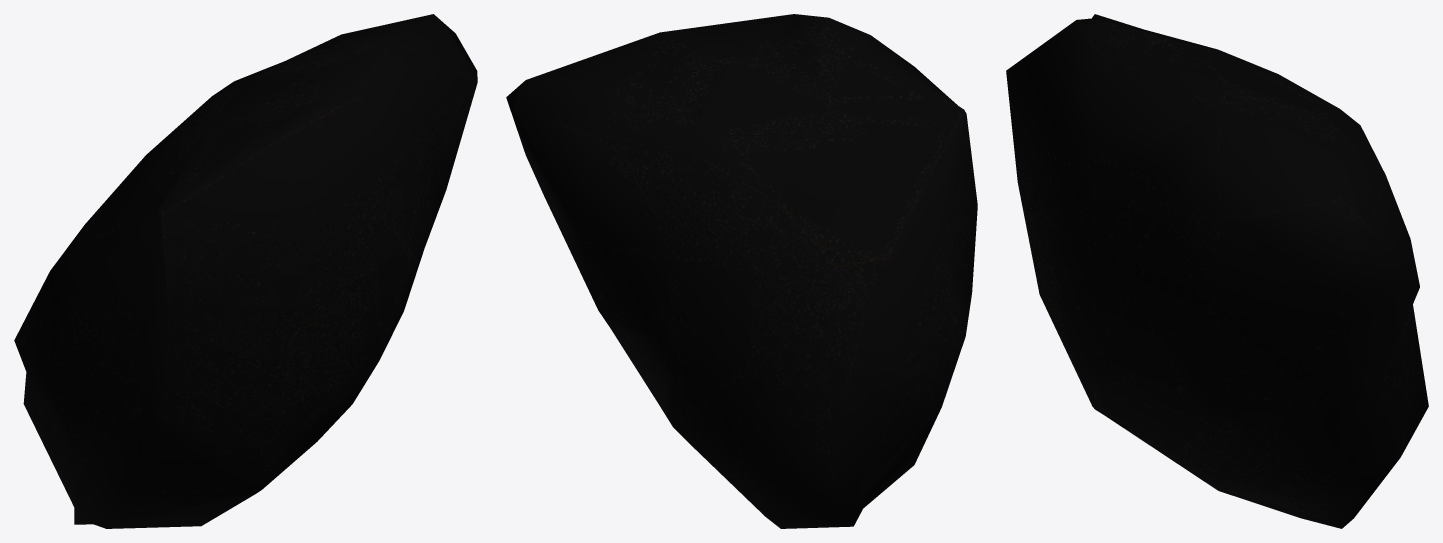
The model's file is Gold-Piece.fbx.
3 views of the same model, side by side, from view 1: azimuth 30°, elevation 25°; view 2: azimuth 150°, elevation 25°; view 3: azimuth 270°, elevation 25° (orthographic). The views are drawn at different scales.
Visible parts, largest first — view 1: Volume17; view 2: Volume17; view 3: Volume17.
Boxes of the visible parts, x1,y1,x2,y2 form: Volume17: (14,14,477,528); Volume17: (506,14,977,528); Volume17: (1006,14,1428,528).
Size of the model in its own units: 4.82 by 4.81 by 3.42.
